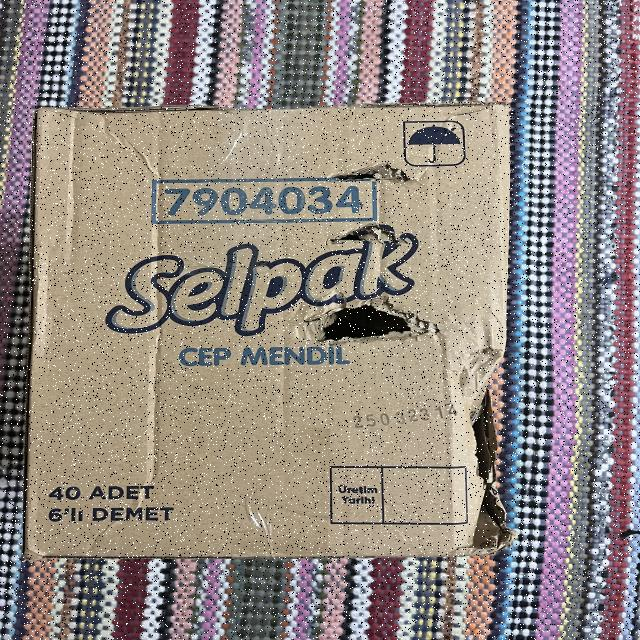damaged: (23, 98, 534, 579), (462, 335, 532, 565), (286, 289, 446, 351), (320, 157, 420, 198), (324, 219, 413, 254)
